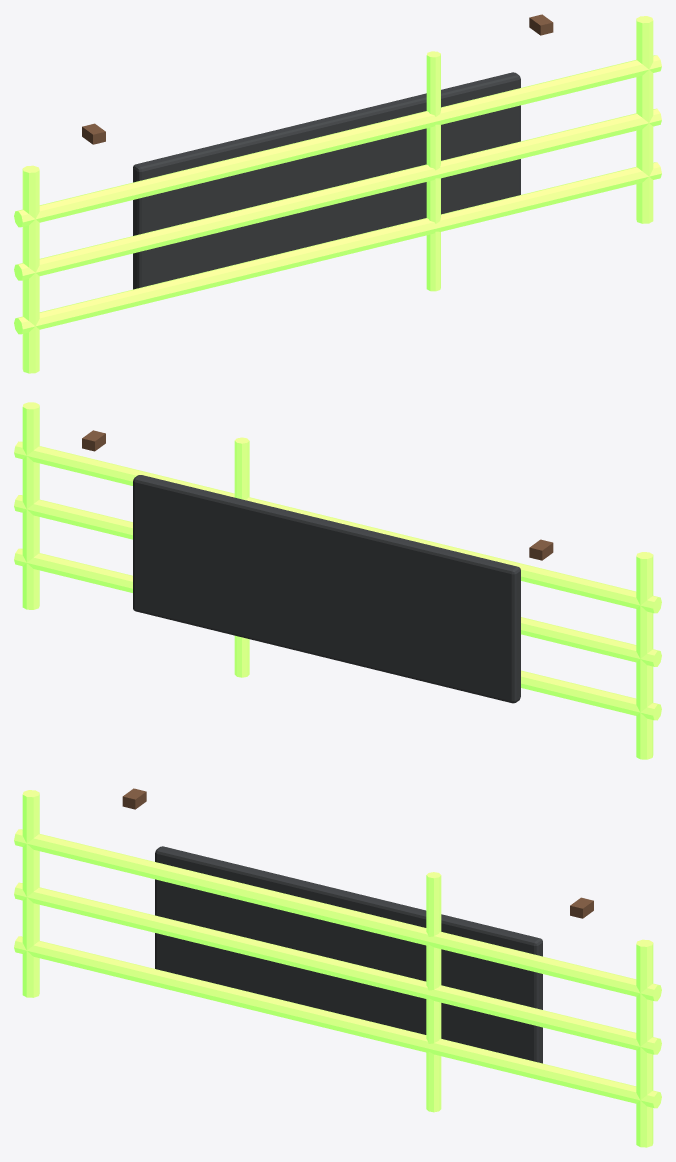
Rendered from arch_neon_sign.glb.
The picture shows the model from 3 angles, top to bottom: view 1: azimuth 30°, elevation 25°; view 2: azimuth 150°, elevation 25°; view 3: azimuth 330°, elevation 25°; orthographic projection.
Parts seen in each view (by area): view 1: arch_neon_sign; view 2: arch_neon_sign; view 3: arch_neon_sign.
Boxes of the visible parts, x1,y1,x2,y2 form: arch_neon_sign: (14, 14, 661, 373); arch_neon_sign: (14, 402, 661, 759); arch_neon_sign: (14, 788, 661, 1147).
Bounding box in the file's own units: 1 × 0.35 × 0.082.
